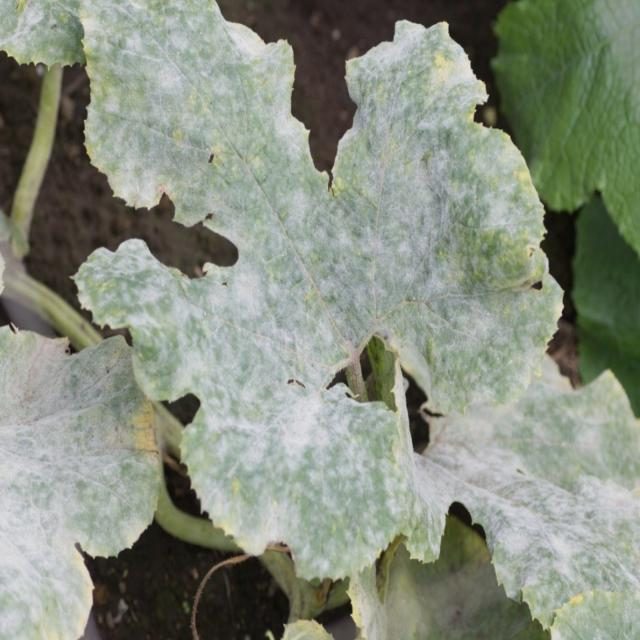Powdery Mildew: (0, 21, 640, 638)
